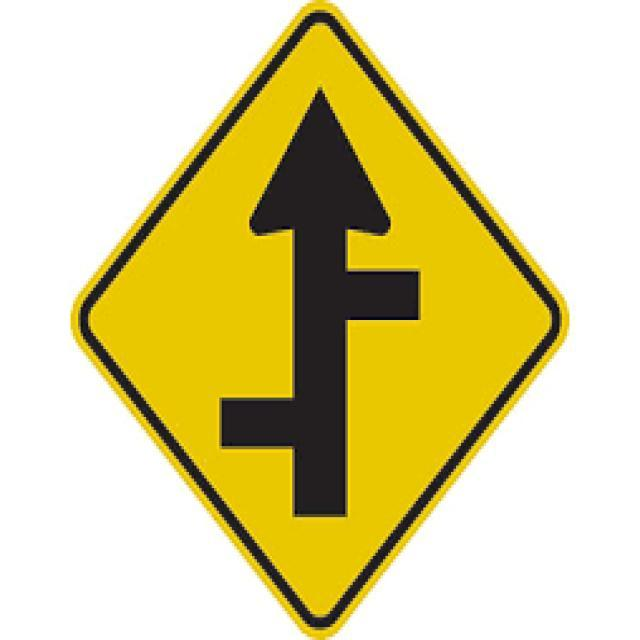staggered intersection: (77, 19, 564, 615)
